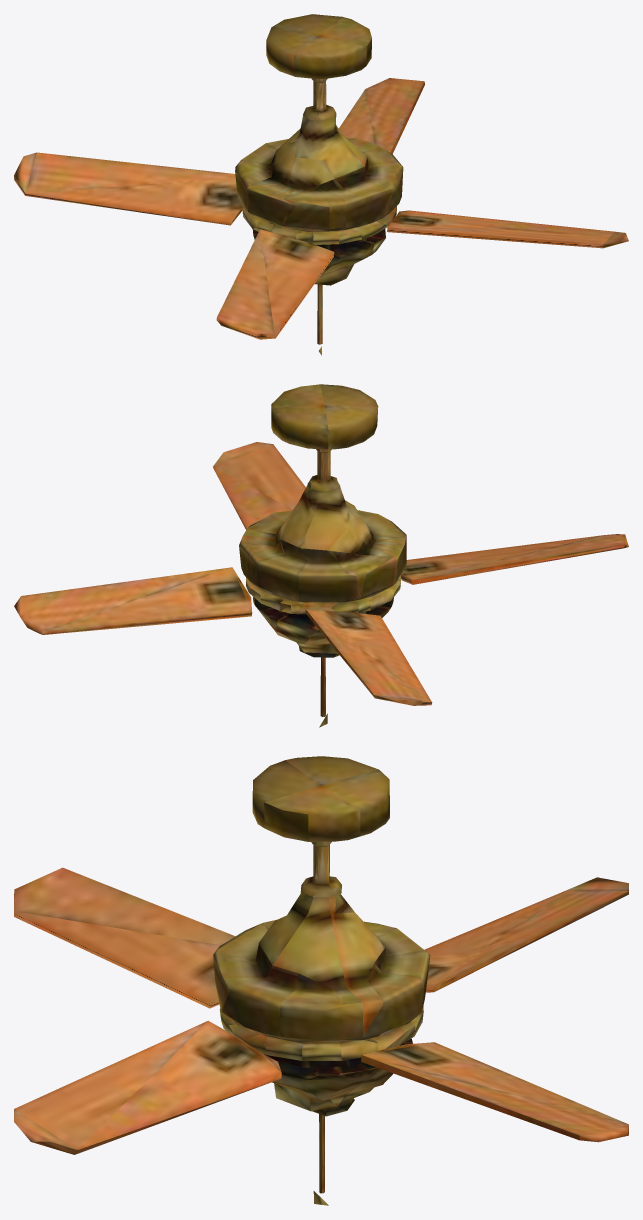
The model's file is ceiling-fan.lod2.glb.
3 views of the same model, one above another, from view 1: azimuth 30°, elevation 25°; view 2: azimuth 150°, elevation 25°; view 3: azimuth 270°, elevation 25° (orthographic). The views are drawn at different scales.
Parts seen in each view (by area): view 1: Rotor, Frame; view 2: Rotor, Frame; view 3: Rotor, Frame.
Part boxes in pixels (bbox=[...]): Rotor: bbox=[14, 78, 628, 355]; Frame: bbox=[266, 14, 371, 121]; Rotor: bbox=[14, 442, 628, 727]; Frame: bbox=[271, 384, 378, 492]; Rotor: bbox=[14, 867, 628, 1205]; Frame: bbox=[252, 756, 389, 898].
Bounding box in the file's own units: 1.3 × 0.9769 × 1.3.
Materials: 1 (1 with a texture image).
